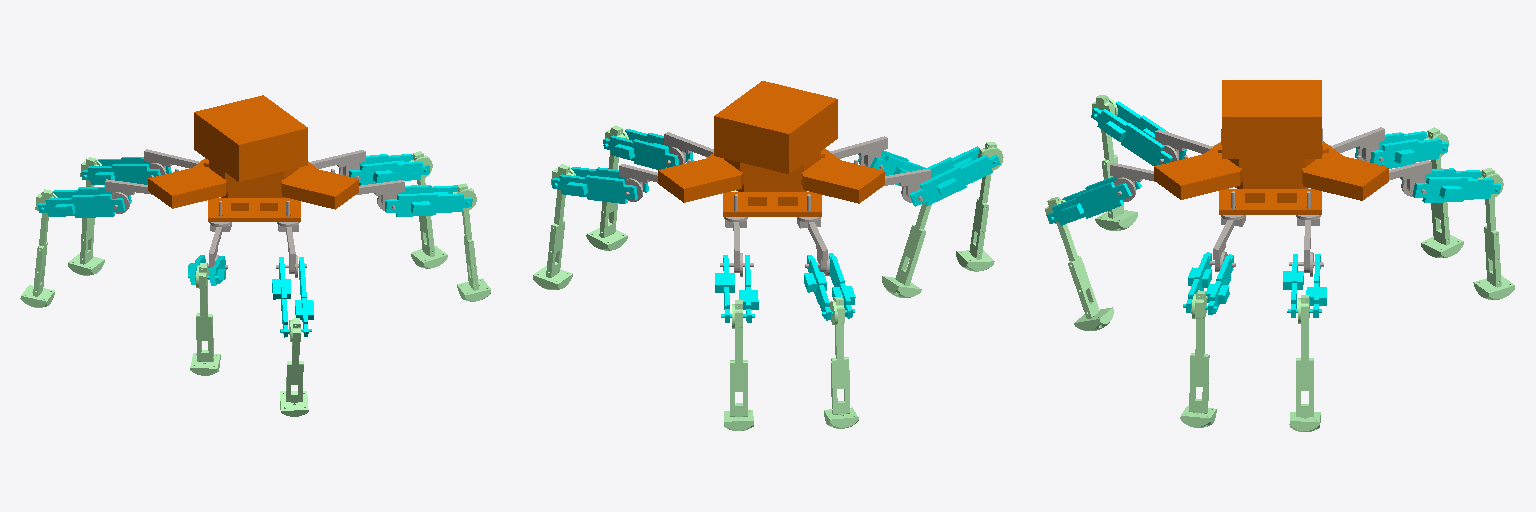
URDF robot description (AMS):
<?xml version="1.0" encoding="utf-8"?>
<!-- This URDF was automatically created by SolidWorks to URDF Exporter! Originally created by Stephen Brawner ([email redacted]) 
     Commit Version: 1.6.0-4-g7f85cfe  Build Version: 1.6.7995.38578
     For more information, please see http://wiki.ros.org/sw_urdf_exporter -->
<robot
  name="AMS">
  <link
    name="Center">
    <inertial>
      <origin
        xyz="-0.00366963087156158 0.000701995667722999 0.0763001812799514"
        rpy="0 0 0" />
      <mass
        value="7.03949041087589" />
      <inertia
        ixx="0.056282384843147"
        ixy="6.52350823961155E-05"
        ixz="0.00127272178126108"
        iyy="0.0543806208699608"
        iyz="-4.75517511617764E-05"
        izz="0.0764997084464421" />
    </inertial>
    <visual>
      <origin
        xyz="0 0 0"
        rpy="0 0 0" />
      <geometry>
        <mesh
          filename="package://AMS/meshes/Center.STL" />
      </geometry>
      <material
        name="">
        <color
          rgba="0.909803921568627 0.450980392156863 0.0274509803921569 1" />
      </material>
    </visual>
    <collision>
      <origin
        xyz="0 0 0"
        rpy="0 0 0" />
      <geometry>
        <mesh
          filename="package://AMS/meshes/Center.STL" />
      </geometry>
    </collision>
  </link>
  <link
    name="Leg_1">
    <inertial>
      <origin
        xyz="0.067287120431619 -0.0133985270707381 0.0542683606357068"
        rpy="0 0 0" />
      <mass
        value="0.792220921601159" />
      <inertia
        ixx="0.000291282704912581"
        ixy="0.000425005813630094"
        ixz="0.000247496052485109"
        iyy="0.00218749637915196"
        iyz="-5.29346806801476E-05"
        izz="0.00219264789755939" />
    </inertial>
    <visual>
      <origin
        xyz="0 0 0"
        rpy="0 0 0" />
      <geometry>
        <mesh
          filename="package://AMS/meshes/Leg_1.STL" />
      </geometry>
      <material
        name="">
        <color
          rgba="0.776470588235294 0.756862745098039 0.737254901960784 1" />
      </material>
    </visual>
    <collision>
      <origin
        xyz="0 0 0"
        rpy="0 0 0" />
      <geometry>
        <mesh
          filename="package://AMS/meshes/Leg_1.STL" />
      </geometry>
    </collision>
  </link>
  <joint
    name="Ro1"
    type="continuous">
    <origin
      xyz="0.153626283849091 -0.0759724321484437 -0.0770000000000001"
      rpy="0 0 0" />
    <parent
      link="Center" />
    <child
      link="Leg_1" />
    <axis
      xyz="0 0 -1" />
  </joint>
  <link
    name="LegUP_1">
    <inertial>
      <origin
        xyz="0.0803995159634851 -0.0186499322491301 -0.00760570443460268"
        rpy="0 0 0" />
      <mass
        value="0.530232120075523" />
      <inertia
        ixx="0.000142513309886189"
        ixy="0.000195295614976378"
        ixz="8.23780046372971E-05"
        iyy="0.0010138477805236"
        iyz="-1.76190825136711E-05"
        izz="0.00100699658348211" />
    </inertial>
    <visual>
      <origin
        xyz="0 0 0"
        rpy="0 0 0" />
      <geometry>
        <mesh
          filename="package://AMS/meshes/LegUP_1.STL" />
      </geometry>
      <material
        name="">
        <color
          rgba="0 1 1 1" />
      </material>
    </visual>
    <collision>
      <origin
        xyz="0 0 0"
        rpy="0 0 0" />
      <geometry>
        <mesh
          filename="package://AMS/meshes/LegUP_1.STL" />
      </geometry>
    </collision>
  </link>
  <joint
    name="Up_1"
    type="continuous">
    <origin
      xyz="0.12775 -0.027323 0.025"
      rpy="0 0 0" />
    <parent
      link="Leg_1" />
    <child
      link="LegUP_1" />
    <axis
      xyz="0.20915 0.97788 0" />
  </joint>
  <link
    name="LegLO_1">
    <inertial>
      <origin
        xyz="0.0147721681537606 -0.00389828224764294 -0.144272946358854"
        rpy="0 0 0" />
      <mass
        value="0.247186737863924" />
      <inertia
        ixx="0.000330243897527898"
        ixy="1.95843139770645E-06"
        ixz="2.66721873451381E-05"
        iyy="0.000338955750034985"
        iyz="-5.75628207771381E-06"
        izz="7.07050851423158E-05" />
    </inertial>
    <visual>
      <origin
        xyz="0 0 0"
        rpy="0 0 0" />
      <geometry>
        <mesh
          filename="package://AMS/meshes/LegLO_1.STL" />
      </geometry>
      <material
        name="">
        <color
          rgba="0.752941176470588 1 0.752941176470588 1" />
      </material>
    </visual>
    <collision>
      <origin
        xyz="0 0 0"
        rpy="0 0 0" />
      <geometry>
        <mesh
          filename="package://AMS/meshes/LegLO_1.STL" />
      </geometry>
    </collision>
  </link>
  <joint
    name="Lo_1"
    type="continuous">
    <origin
      xyz="0.167486098438044 -0.0358220789792799 -0.0157856101435428"
      rpy="0 0 0" />
    <parent
      link="LegUP_1" />
    <child
      link="LegLO_1" />
    <axis
      xyz="0.209150599536805 0.977883442294323 0" />
  </joint>
  <link
    name="Leg_2">
    <inertial>
      <origin
        xyz="0.0686064774577679 -0.000477864500943725 0.0542683606357068"
        rpy="0 0 0" />
      <mass
        value="0.792220921601158" />
      <inertia
        ixx="0.000201308641237545"
        ixy="4.38698030276972E-05"
        ixz="0.000253037179712463"
        iyy="0.002277470442827"
        iyz="-5.34435193296478E-06"
        izz="0.00219264789755939" />
    </inertial>
    <visual>
      <origin
        xyz="0 0 0"
        rpy="0 0 0" />
      <geometry>
        <mesh
          filename="package://AMS/meshes/Leg_2.STL" />
      </geometry>
      <material
        name="">
        <color
          rgba="0.776470588235294 0.756862745098039 0.737254901960784 1" />
      </material>
    </visual>
    <collision>
      <origin
        xyz="0 0 0"
        rpy="0 0 0" />
      <geometry>
        <mesh
          filename="package://AMS/meshes/Leg_2.STL" />
      </geometry>
    </collision>
  </link>
  <joint
    name="Ro_2"
    type="continuous">
    <origin
      xyz="0.15363 0.072028 -0.077"
      rpy="0 0 0" />
    <parent
      link="Center" />
    <child
      link="Leg_2" />
    <axis
      xyz="0 0 -1" />
  </joint>
  <link
    name="LegUP_2">
    <inertial>
      <origin
        xyz="0.21275451372113 -0.005915719202855 0.0144073833733606"
        rpy="0 0 0" />
      <mass
        value="0.530232120075524" />
      <inertia
        ixx="0.000108461552314353"
        ixy="2.00047133165872E-05"
        ixz="0.000116829066406804"
        iyy="0.00105519526829262"
        iyz="-2.46752531618936E-06"
        izz="0.000999700853284934" />
    </inertial>
    <visual>
      <origin
        xyz="0 0 0"
        rpy="0 0 0" />
      <geometry>
        <mesh
          filename="package://AMS/meshes/LegUP_2.STL" />
      </geometry>
      <material
        name="">
        <color
          rgba="0 1 1 1" />
      </material>
    </visual>
    <collision>
      <origin
        xyz="0 0 0"
        rpy="0 0 0" />
      <geometry>
        <mesh
          filename="package://AMS/meshes/LegUP_2.STL" />
      </geometry>
    </collision>
  </link>
  <joint
    name="Up_2"
    type="continuous">
    <origin
      xyz="0 0 0"
      rpy="0 0 0" />
    <parent
      link="Leg_2" />
    <child
      link="LegUP_2" />
    <axis
      xyz="0.0211161075603594 0.999777030142971 0" />
  </joint>
  <link
    name="LegLO_2">
    <inertial>
      <origin
        xyz="0.0156756296182849 -0.00105370099502744 -0.14422642284404"
        rpy="0 0 0" />
      <mass
        value="0.247186738603961" />
      <inertia
        ixx="0.000329662081038078"
        ixy="2.10614001070871E-07"
        ixz="2.80572674187766E-05"
        iyy="0.000339371190847684"
        iyz="-6.43056735552045E-07"
        izz="7.08714603950469E-05" />
    </inertial>
    <visual>
      <origin
        xyz="0 0 0"
        rpy="0 0 0" />
      <geometry>
        <mesh
          filename="package://AMS/meshes/LegLO_2.STL" />
      </geometry>
      <material
        name="">
        <color
          rgba="0.752941176470588 1 0.752941176470588 1" />
      </material>
    </visual>
    <collision>
      <origin
        xyz="0 0 0"
        rpy="0 0 0" />
      <geometry>
        <mesh
          filename="package://AMS/meshes/LegLO_2.STL" />
      </geometry>
    </collision>
  </link>
  <joint
    name="Lo_2"
    type="continuous">
    <origin
      xyz="0.301161998289226 -0.00636078741282808 0.00301506515196831"
      rpy="0 0 0" />
    <parent
      link="LegUP_2" />
    <child
      link="LegLO_2" />
    <axis
      xyz="0.0211161075603594 0.999777030142971 0" />
  </joint>
  <link
    name="Leg_3">
    <inertial>
      <origin
        xyz="-0.0361239385133426 0.0583278507226928 0.0542683606357068"
        rpy="0 0 0" />
      <mass
        value="0.792220921601158" />
      <inertia
        ixx="0.00172845059203097"
        ixy="0.000916709226301699"
        ixz="-0.000130201815515214"
        iyy="0.00075032849203358"
        iyz="0.00021703424534152"
        izz="0.00219264789755939" />
    </inertial>
    <visual>
      <origin
        xyz="0 0 0"
        rpy="0 0 0" />
      <geometry>
        <mesh
          filename="package://AMS/meshes/Leg_3.STL" />
      </geometry>
      <material
        name="">
        <color
          rgba="0.776470588235294 0.756862745098039 0.737254901960784 1" />
      </material>
    </visual>
    <collision>
      <origin
        xyz="0 0 0"
        rpy="0 0 0" />
      <geometry>
        <mesh
          filename="package://AMS/meshes/Leg_3.STL" />
      </geometry>
    </collision>
  </link>
  <joint
    name="Ro_3"
    type="continuous">
    <origin
      xyz="-0.013053 0.17041 -0.077"
      rpy="0 0 0" />
    <parent
      link="Center" />
    <child
      link="Leg_3" />
    <axis
      xyz="0 0 -1" />
  </joint>
  <link
    name="LegUP_3">
    <inertial>
      <origin
        xyz="-0.0404187843117325 0.0701382098321081 -0.0177961309366721"
        rpy="0 0 0" />
      <mass
        value="0.530232120075523" />
      <inertia
        ixx="0.000812105201325557"
        ixy="0.000405912693625945"
        ixz="-9.9456016774767E-05"
        iyy="0.000378999299351864"
        iyz="0.000165783875286001"
        izz="0.000972253173214485" />
    </inertial>
    <visual>
      <origin
        xyz="0 0 0"
        rpy="0 0 0" />
      <geometry>
        <mesh
          filename="package://AMS/meshes/LegUP_3.STL" />
      </geometry>
      <material
        name="">
        <color
          rgba="0 1 1 1" />
      </material>
    </visual>
    <collision>
      <origin
        xyz="0 0 0"
        rpy="0 0 0" />
      <geometry>
        <mesh
          filename="package://AMS/meshes/LegUP_3.STL" />
      </geometry>
    </collision>
  </link>
  <joint
    name="Up_3"
    type="continuous">
    <origin
      xyz="-0.067206615952311 0.112027141230322 0.025"
      rpy="0 0 0" />
    <parent
      link="Leg_3" />
    <child
      link="LegUP_3" />
    <axis
      xyz="-0.857525575859785 -0.514441334601278 0" />
  </joint>
  <link
    name="LegLO_3">
    <inertial>
      <origin
        xyz="-0.00361505562157596 0.00743031335332914 -0.144844119636871"
        rpy="0 0 0" />
      <mass
        value="0.247186739476512" />
      <inertia
        ixx="0.000337389471968355"
        ixy="3.31382033029527E-06"
        ixz="-7.45691072929482E-06"
        iyy="0.000333847205922021"
        iyz="1.25284608960353E-05"
        izz="6.86680347121754E-05" />
    </inertial>
    <visual>
      <origin
        xyz="0 0 0"
        rpy="0 0 0" />
      <geometry>
        <mesh
          filename="package://AMS/meshes/LegLO_3.STL" />
      </geometry>
      <material
        name="">
        <color
          rgba="0.752941176470588 1 0.752941176470588 1" />
      </material>
    </visual>
    <collision>
      <origin
        xyz="0 0 0"
        rpy="0 0 0" />
      <geometry>
        <mesh
          filename="package://AMS/meshes/LegLO_3.STL" />
      </geometry>
    </collision>
  </link>
  <joint
    name="Lo_3"
    type="continuous">
    <origin
      xyz="-0.0864196317048255 0.144053441002575 -0.0369358009432565"
      rpy="0 0 0" />
    <parent
      link="LegUP_3" />
    <child
      link="LegLO_3" />
    <axis
      xyz="-0.857525575859785 -0.514441334601278 0" />
  </joint>
  <link
    name="Leg_4">
    <inertial>
      <origin
        xyz="-0.0464688320943032 0.0504749913069427 0.0542683606357068"
        rpy="0 0 0" />
      <mass
        value="0.792220921601159" />
      <inertia
        ixx="0.00135438672831599"
        ixy="0.00103262392155098"
        ixz="-0.000168770001105544"
        iyy="0.00112439235574856"
        iyz="0.000188608226600155"
        izz="0.00219264789755939" />
    </inertial>
    <visual>
      <origin
        xyz="0 0 0"
        rpy="0 0 0" />
      <geometry>
        <mesh
          filename="package://AMS/meshes/Leg_4.STL" />
      </geometry>
      <material
        name="">
        <color
          rgba="0.776470588235294 0.756862745098039 0.737254901960784 1" />
      </material>
    </visual>
    <collision>
      <origin
        xyz="0 0 0"
        rpy="0 0 0" />
      <geometry>
        <mesh
          filename="package://AMS/meshes/Leg_4.STL" />
      </geometry>
    </collision>
  </link>
  <joint
    name="Ro_4"
    type="continuous">
    <origin
      xyz="-0.14122 0.096409 -0.077"
      rpy="0 0 0" />
    <parent
      link="Center" />
    <child
      link="Leg_4" />
    <axis
      xyz="0 0 -1" />
  </joint>
  <link
    name="LegUP_4">
    <inertial>
      <origin
        xyz="-0.0532808536404538 0.0616760630152958 -0.0150652834783904"
        rpy="0 0 0" />
      <mass
        value="0.530232120075524" />
      <inertia
        ixx="0.000641116402266698"
        ixy="0.00046322432928651"
        ixz="-0.000109879178070011"
        iyy="0.000537943323715311"
        iyz="0.000122795027435634"
        izz="0.0009842979479099" />
    </inertial>
    <visual>
      <origin
        xyz="0 0 0"
        rpy="0 0 0" />
      <geometry>
        <mesh
          filename="package://AMS/meshes/LegUP_4.STL" />
      </geometry>
      <material
        name="">
        <color
          rgba="0 1 1 1" />
      </material>
    </visual>
    <collision>
      <origin
        xyz="0 0 0"
        rpy="0 0 0" />
      <geometry>
        <mesh
          filename="package://AMS/meshes/LegUP_4.STL" />
      </geometry>
    </collision>
  </link>
  <joint
    name="Up_4"
    type="continuous">
    <origin
      xyz="-0.0871144584558125 0.0973544078506491 0.025"
      rpy="0 0 0" />
    <parent
      link="Leg_4" />
    <child
      link="LegUP_4" />
    <axis
      xyz="-0.745211327699396 -0.666828371523366 0" />
  </joint>
  <link
    name="LegLO_4">
    <inertial>
      <origin
        xyz="-0.00819425538455662 0.0102408805801315 -0.144485554032667"
        rpy="0 0 0" />
      <mass
        value="0.247186738346379" />
      <inertia
        ixx="0.000335470856452941"
        ixy="4.36845365228266E-06"
        ixz="-1.5558816980611E-05"
        iyy="0.000334488734617102"
        iyz="1.74634880343201E-05"
        izz="6.99451354538179E-05" />
    </inertial>
    <visual>
      <origin
        xyz="0 0 0"
        rpy="0 0 0" />
      <geometry>
        <mesh
          filename="package://AMS/meshes/LegLO_4.STL" />
      </geometry>
      <material
        name="">
        <color
          rgba="0.752941176470588 1 0.752941176470588 1" />
      </material>
    </visual>
    <collision>
      <origin
        xyz="0 0 0"
        rpy="0 0 0" />
      <geometry>
        <mesh
          filename="package://AMS/meshes/LegLO_4.STL" />
      </geometry>
    </collision>
  </link>
  <joint
    name="Lo_4"
    type="continuous">
    <origin
      xyz="-0.11278336185759 0.126040586186052 -0.0312679376034983"
      rpy="0 0 0" />
    <parent
      link="LegUP_4" />
    <child
      link="LegLO_4" />
    <axis
      xyz="-0.745211327699395 -0.666828371523366 0" />
  </joint>
  <link
    name="Leg_5">
    <inertial>
      <origin
        xyz="-0.0407373301449174 -0.055204592529141 0.0542683606357068"
        rpy="0 0 0" />
      <mass
        value="0.79222092160116" />
      <inertia
        ixx="0.00151755037740707"
        ixy="-0.00100108094871298"
        ixz="-0.000153145913503285"
        iyy="0.000961228706657481"
        iyz="-0.000201501130497239"
        izz="0.00219264789755939" />
    </inertial>
    <visual>
      <origin
        xyz="0 0 0"
        rpy="0 0 0" />
      <geometry>
        <mesh
          filename="package://AMS/meshes/Leg_5.STL" />
      </geometry>
      <material
        name="">
        <color
          rgba="0.776470588235294 0.756862745098039 0.737254901960784 1" />
      </material>
    </visual>
    <collision>
      <origin
        xyz="0 0 0"
        rpy="0 0 0" />
      <geometry>
        <mesh
          filename="package://AMS/meshes/Leg_5.STL" />
      </geometry>
    </collision>
  </link>
  <joint
    name="Ro_5"
    type="continuous">
    <origin
      xyz="-0.14069 -0.095137 -0.077"
      rpy="0 0 0" />
    <parent
      link="Center" />
    <child
      link="Leg_5" />
    <axis
      xyz="0 0 -1" />
  </joint>
  <link
    name="LegUP_5">
    <inertial>
      <origin
        xyz="-0.0491028265179714 -0.0622570523069683 0.0241396094831706"
        rpy="0 0 0" />
      <mass
        value="0.530232120075524" />
      <inertia
        ixx="0.000731793000805285"
        ixy="-0.000426071179048695"
        ixz="0.000155425516821448"
        iyy="0.000495016314073455"
        iyz="0.000204500509554685"
        izz="0.000936548359013169" />
    </inertial>
    <visual>
      <origin
        xyz="0 0 0"
        rpy="0 0 0" />
      <geometry>
        <mesh
          filename="package://AMS/meshes/LegUP_5.STL" />
      </geometry>
      <material
        name="">
        <color
          rgba="0 1 1 1" />
      </material>
    </visual>
    <collision>
      <origin
        xyz="0 0 0"
        rpy="0 0 0" />
      <geometry>
        <mesh
          filename="package://AMS/meshes/LegUP_5.STL" />
      </geometry>
    </collision>
  </link>
  <joint
    name="Up_5"
    type="continuous">
    <origin
      xyz="-0.0790497317779605 -0.104009372201896 0.025"
      rpy="0 0 0" />
    <parent
      link="Leg_5" />
    <child
      link="LegUP_5" />
    <axis
      xyz="0.796152573498897 -0.605095926040726 0" />
  </joint>
  <link
    name="LegLO_5">
    <inertial>
      <origin
        xyz="0.0118631867106019 0.0168028962908218 -0.143614150654697"
        rpy="0 0 0" />
      <mass
        value="0.247186741993168" />
      <inertia
        ixx="0.000334935822562394"
        ixy="-5.84902447163582E-06"
        ixz="2.26798099149587E-05"
        iyy="0.000331670397822399"
        iyz="2.99238817265597E-05"
        izz="7.32985251431596E-05" />
    </inertial>
    <visual>
      <origin
        xyz="0 0 0"
        rpy="0 0 0" />
      <geometry>
        <mesh
          filename="package://AMS/meshes/LegLO_5.STL" />
      </geometry>
      <material
        name="">
        <color
          rgba="0.752941176470588 1 0.752941176470588 1" />
      </material>
    </visual>
    <collision>
      <origin
        xyz="0 0 0"
        rpy="0 0 0" />
      <geometry>
        <mesh
          filename="package://AMS/meshes/LegLO_5.STL" />
      </geometry>
    </collision>
  </link>
  <joint
    name="Lo_5"
    type="continuous">
    <origin
      xyz="-0.0995632402222071 -0.13099993987311 0.0501016661369348"
      rpy="0 0 0" />
    <parent
      link="LegUP_5" />
    <child
      link="LegLO_5" />
    <axis
      xyz="0.796152573498897 -0.605095926040726 0" />
  </joint>
  <link
    name="Leg_6">
    <inertial>
      <origin
        xyz="-0.0296038180746527 -0.0618925767685217 0.0542683606357068"
        rpy="0 0 0" />
      <mass
        value="0.792220921601158" />
      <inertia
        ixx="0.00186834882140934"
        ixy="-0.000827010726108166"
        ixz="-0.000112427952082734"
        iyy="0.0006104302626552"
        iyz="-0.000226751696807109"
        izz="0.00219264789755939" />
    </inertial>
    <visual>
      <origin
        xyz="0 0 0"
        rpy="0 0 0" />
      <geometry>
        <mesh
          filename="package://AMS/meshes/Leg_6.STL" />
      </geometry>
      <material
        name="">
        <color
          rgba="0.776470588235294 0.756862745098039 0.737254901960784 1" />
      </material>
    </visual>
    <collision>
      <origin
        xyz="0 0 0"
        rpy="0 0 0" />
      <geometry>
        <mesh
          filename="package://AMS/meshes/Leg_6.STL" />
      </geometry>
    </collision>
  </link>
  <joint
    name="Ro_6"
    type="continuous">
    <origin
      xyz="-0.0125228738735831 -0.169137332475949 -0.0770000000000001"
      rpy="0 0 0" />
    <parent
      link="Center" />
    <child
      link="Leg_6" />
    <axis
      xyz="0 0 -1" />
  </joint>
  <link
    name="LegUP_6">
    <inertial>
      <origin
        xyz="-0.0331534494401462 -0.0636651195414986 -0.0414409245069764"
        rpy="0 0 0" />
      <mass
        value="0.530232120075523" />
      <inertia
        ixx="0.000911147465429208"
        ixy="-0.00029137673779453"
        ixz="-0.000177319724505567"
        iyy="0.000467951029772533"
        iyz="-0.000357629465485757"
        izz="0.000784259178690163" />
    </inertial>
    <visual>
      <origin
        xyz="0 0 0"
        rpy="0 0 0" />
      <geometry>
        <mesh
          filename="package://AMS/meshes/LegUP_6.STL" />
      </geometry>
      <material
        name="">
        <color
          rgba="0 1 1 1" />
      </material>
    </visual>
    <collision>
      <origin
        xyz="0 0 0"
        rpy="0 0 0" />
      <geometry>
        <mesh
          filename="package://AMS/meshes/LegUP_6.STL" />
      </geometry>
    </collision>
  </link>
  <joint
    name="Up_6"
    type="continuous">
    <origin
      xyz="-0.0580322337905208 -0.11704302388986 0.025"
      rpy="0 0 0" />
    <parent
      link="Leg_6" />
    <child
      link="LegUP_6" />
    <axis
      xyz="0.895920268599663 -0.444214894293637 0" />
  </joint>
  <link
    name="LegLO_6">
    <inertial>
      <origin
        xyz="0.0220560756898651 0.0461104369072307 -0.135777215874789"
        rpy="0 0 0" />
      <mass
        value="0.24718674137234" />
      <inertia
        ixx="0.00033152588581869"
        ixy="-1.58498304699179E-05"
        ixz="3.88812561529985E-05"
        iyy="0.00030737261284685"
        iyz="7.85250310643979E-05"
        izz="0.000101006327201176" />
    </inertial>
    <visual>
      <origin
        xyz="0 0 0"
        rpy="0 0 0" />
      <geometry>
        <mesh
          filename="package://AMS/meshes/LegLO_6.STL" />
      </geometry>
      <material
        name="">
        <color
          rgba="0.752941176470588 1 0.752941176470588 1" />
      </material>
    </visual>
    <collision>
      <origin
        xyz="0 0 0"
        rpy="0 0 0" />
      <geometry>
        <mesh
          filename="package://AMS/meshes/LegLO_6.STL" />
      </geometry>
    </collision>
  </link>
  <joint
    name="Lo_6"
    type="continuous">
    <origin
      xyz="-0.0661659502790324 -0.133447609946544 -0.0860104785664386"
      rpy="0 0 0" />
    <parent
      link="LegUP_6" />
    <child
      link="LegLO_6" />
    <axis
      xyz="0.895920268599663 -0.444214894293637 0" />
  </joint>
</robot>

--- What the picture shows (computed from the rendered views, not written in the file) ---
3 views of the same robot in one strip: view 1: azimuth 30°, elevation 25°; view 2: azimuth 150°, elevation 25°; view 3: azimuth 270°, elevation 25° (orthographic).
Robot: AMS — 19 links, 18 joints (18 continuous); root link Center; default pose: every joint at zero.
Links seen in each view (by area): view 1: Center, LegUP_1, LegUP_4, LegUP_2, LegLO_5, LegUP_3, LegLO_6, LegUP_6, LegLO_1, LegLO_4, LegLO_3, LegLO_2 (+7 smaller); view 2: Center, LegUP_5, LegUP_2, LegLO_4, LegLO_3, LegUP_1, LegLO_5, LegLO_2, LegLO_6, LegUP_4, LegLO_1, LegUP_3 (+7 smaller); view 3: Center, LegUP_5, LegLO_1, LegUP_3, LegUP_6, LegLO_2, LegLO_6, LegUP_4, LegLO_3, LegUP_1, LegLO_4, LegLO_5 (+7 smaller).
Boxes of the visible links, left/top/right/bottom form: Center: left=148, top=95, right=358, bottom=221; LegUP_1: left=385, top=185, right=472, bottom=216; LegUP_4: left=38, top=186, right=131, bottom=217; LegUP_2: left=339, top=154, right=429, bottom=185; LegLO_5: left=190, top=263, right=220, bottom=375; LegUP_3: left=81, top=157, right=171, bottom=184; LegLO_6: left=280, top=318, right=308, bottom=416; LegUP_6: left=272, top=257, right=313, bottom=337; LegLO_1: left=453, top=183, right=490, bottom=301; LegLO_4: left=20, top=189, right=57, bottom=307; LegLO_3: left=68, top=157, right=104, bottom=275; LegLO_2: left=408, top=151, right=447, bottom=268; Center: left=658, top=81, right=884, bottom=216; LegUP_5: left=910, top=146, right=1000, bottom=206; LegUP_2: left=552, top=167, right=648, bottom=203; LegLO_4: left=824, top=296, right=858, bottom=428; LegLO_3: left=724, top=300, right=753, bottom=430; LegUP_1: left=603, top=129, right=693, bottom=169; LegLO_5: left=956, top=142, right=1003, bottom=271; LegLO_2: left=533, top=164, right=575, bottom=289; LegLO_6: left=882, top=203, right=931, bottom=297; LegUP_4: left=804, top=253, right=855, bottom=320; LegLO_1: left=586, top=125, right=628, bottom=250; LegUP_3: left=715, top=255, right=758, bottom=322; Center: left=1154, top=80, right=1388, bottom=214; LegUP_5: left=1091, top=101, right=1186, bottom=165; LegLO_1: left=1180, top=290, right=1216, bottom=427; LegUP_3: left=1401, top=168, right=1500, bottom=202; LegUP_6: left=1046, top=177, right=1141, bottom=225; LegLO_2: left=1289, top=295, right=1320, bottom=431; LegLO_6: left=1045, top=197, right=1113, bottom=330; LegUP_4: left=1355, top=131, right=1448, bottom=168; LegLO_3: left=1473, top=168, right=1514, bottom=299; LegUP_1: left=1183, top=252, right=1233, bottom=314; LegLO_4: left=1421, top=127, right=1463, bottom=257; LegLO_5: left=1092, top=95, right=1137, bottom=230.
Bounding box of the posed robot: 0.9072 × 0.9251 × 0.5449 m (x, y, z).
Meshes: 19 distinct files referenced, 19 mesh visuals loaded (19 binary STL).
